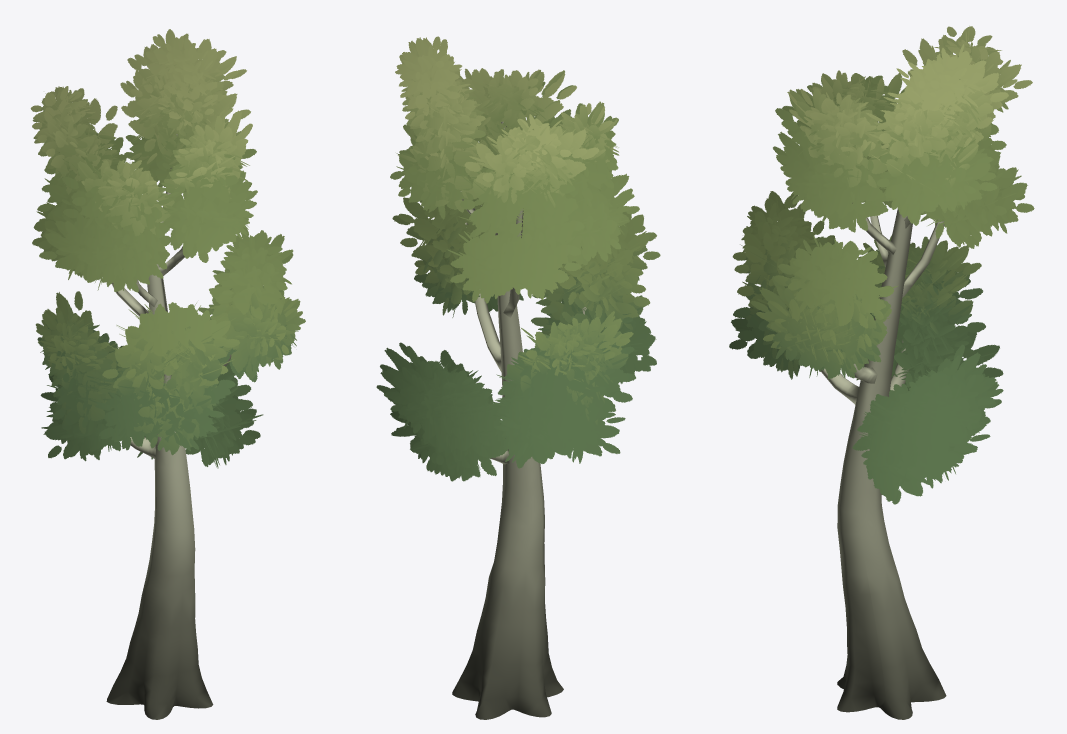
The model's file is birch-slender-birch.glb.
3 views of the same model, side by side, from view 1: azimuth 30°, elevation 25°; view 2: azimuth 150°, elevation 25°; view 3: azimuth 270°, elevation 25° (orthographic). The views are drawn at different scales.
Parts seen in each view (by area): view 1: birch-slender-birch runtime mesh; view 2: birch-slender-birch runtime mesh; view 3: birch-slender-birch runtime mesh.
Part boxes in pixels (bbox=[...]): birch-slender-birch runtime mesh: bbox=[30, 29, 305, 719]; birch-slender-birch runtime mesh: bbox=[376, 36, 660, 719]; birch-slender-birch runtime mesh: bbox=[729, 26, 1034, 719].
Bounding box in the file's own units: 2.07 × 4.8 × 2.16.
Materials: 2 (2 with a texture image).
